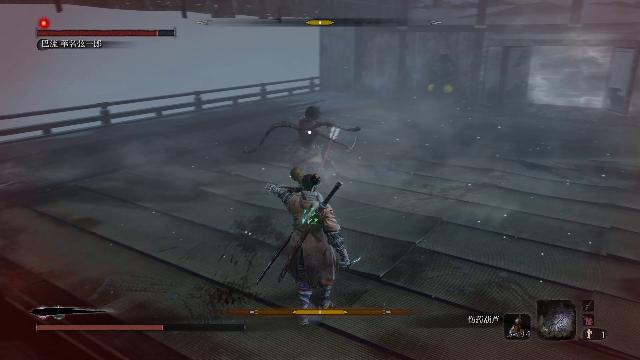sk: (266, 168, 355, 323)
